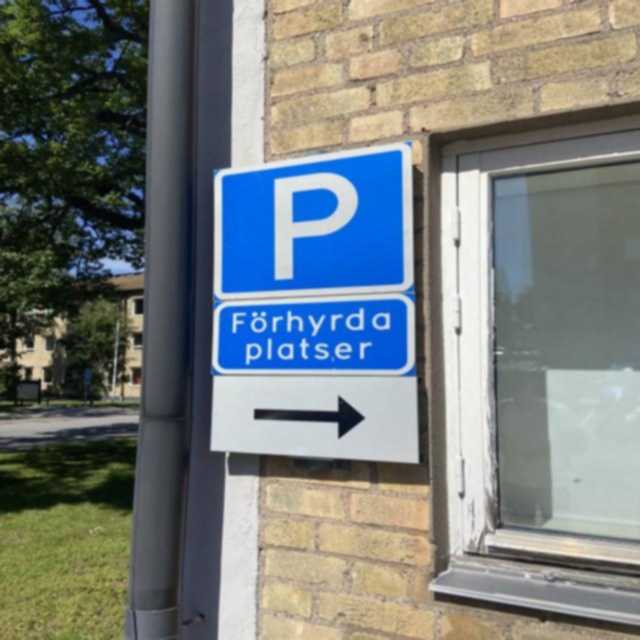P-skylt: (207, 132, 418, 303)
